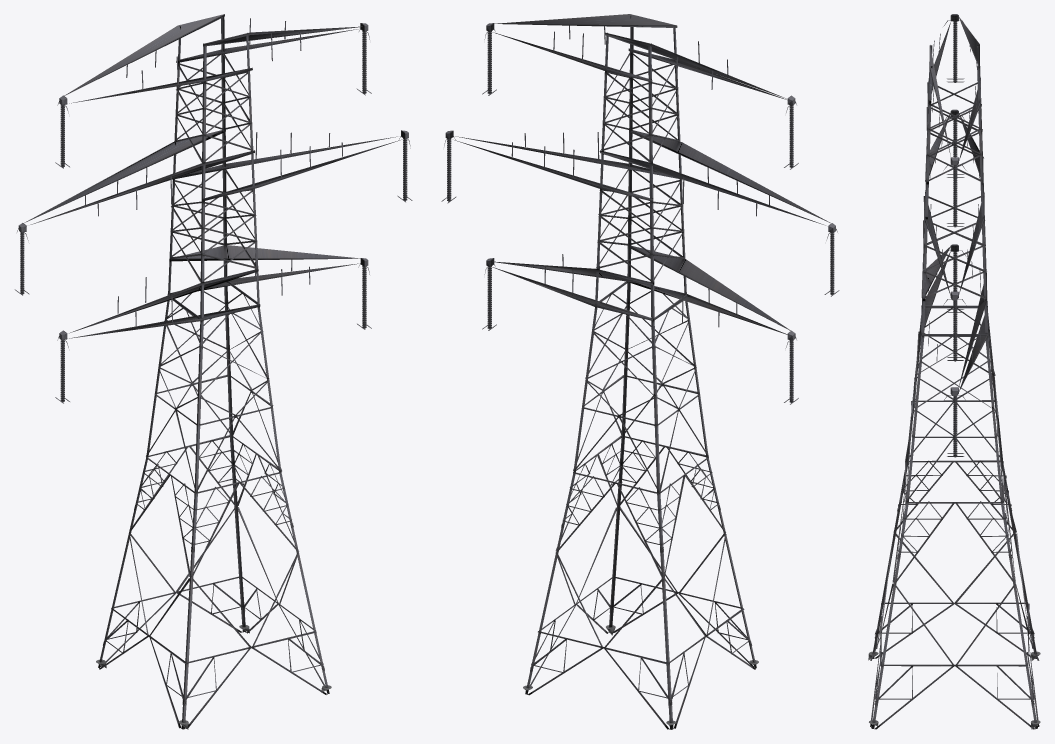
Rendered from transmission_tower_lod.FBX.
3 views of the same model, side by side, from view 1: azimuth 30°, elevation 25°; view 2: azimuth 150°, elevation 25°; view 3: azimuth 270°, elevation 25° (orthographic). The views are drawn at different scales.
Parts seen in each view (by area): view 1: tower_lod; view 2: tower_lod; view 3: tower_lod.
Boxes of the visible parts, box(x1,y1,x2,y2) form: tower_lod: box(14, 14, 412, 729); tower_lod: box(441, 14, 839, 729); tower_lod: box(868, 14, 1040, 729).
Size of the model in its own units: 857 by 1369 by 335.
